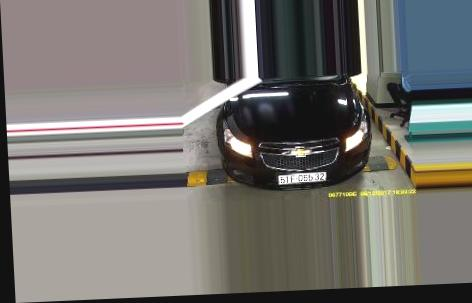License_Plate: (273, 169, 333, 189)
